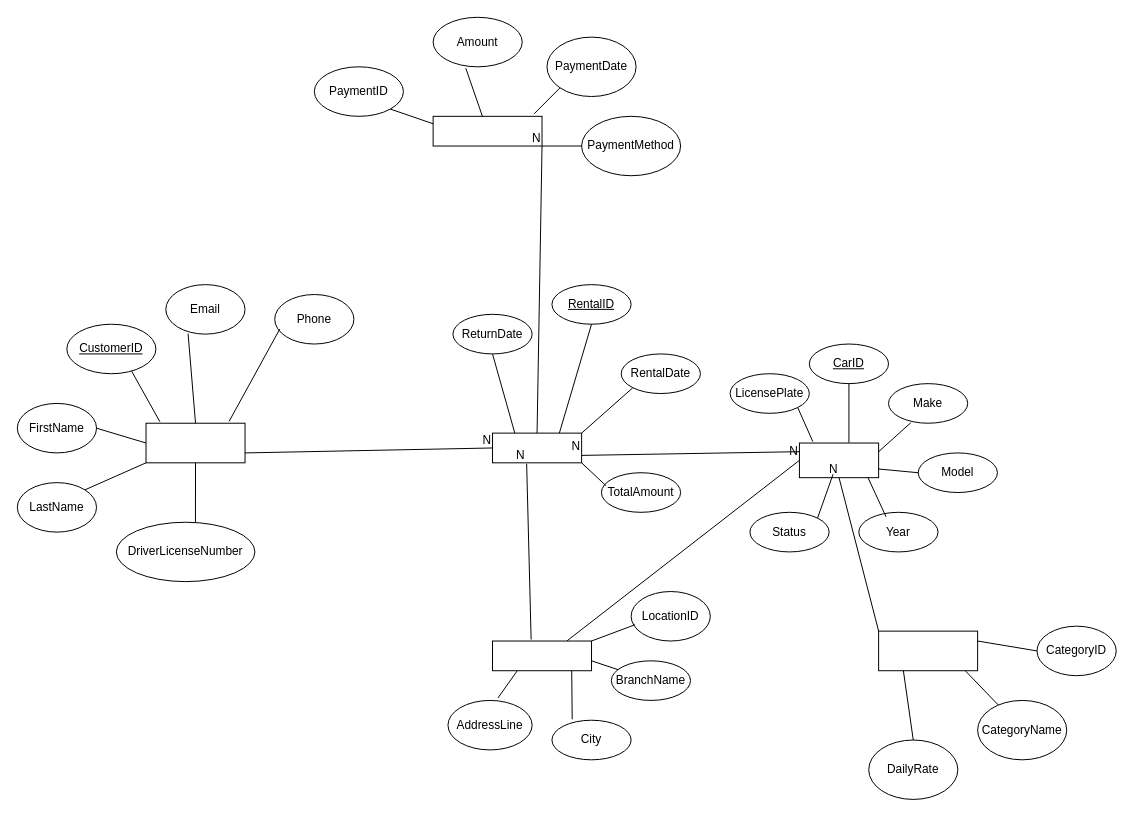
Image size: 1134x817. Some labels were removed from this diagram. The shapes that lost their labels are listed below. From the top down, each one's centre as x and y in pixels, then its label:
At point 487,130: "Payment".
At point 195,442: "Customer".
At point 537,447: "Rental".
At point 838,460: "Car".
At point 542,655: "Location".
At point 928,650: "CarCategory".
